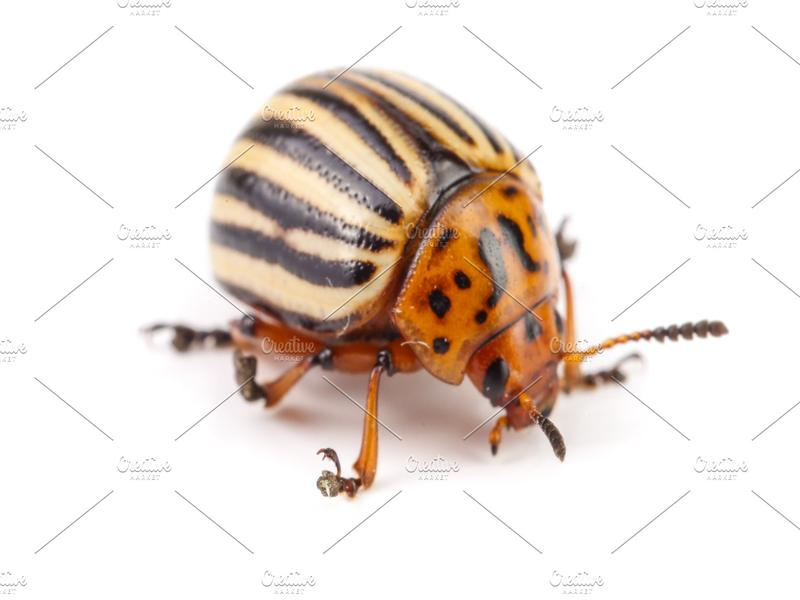hrosc: (188, 37, 640, 502)
